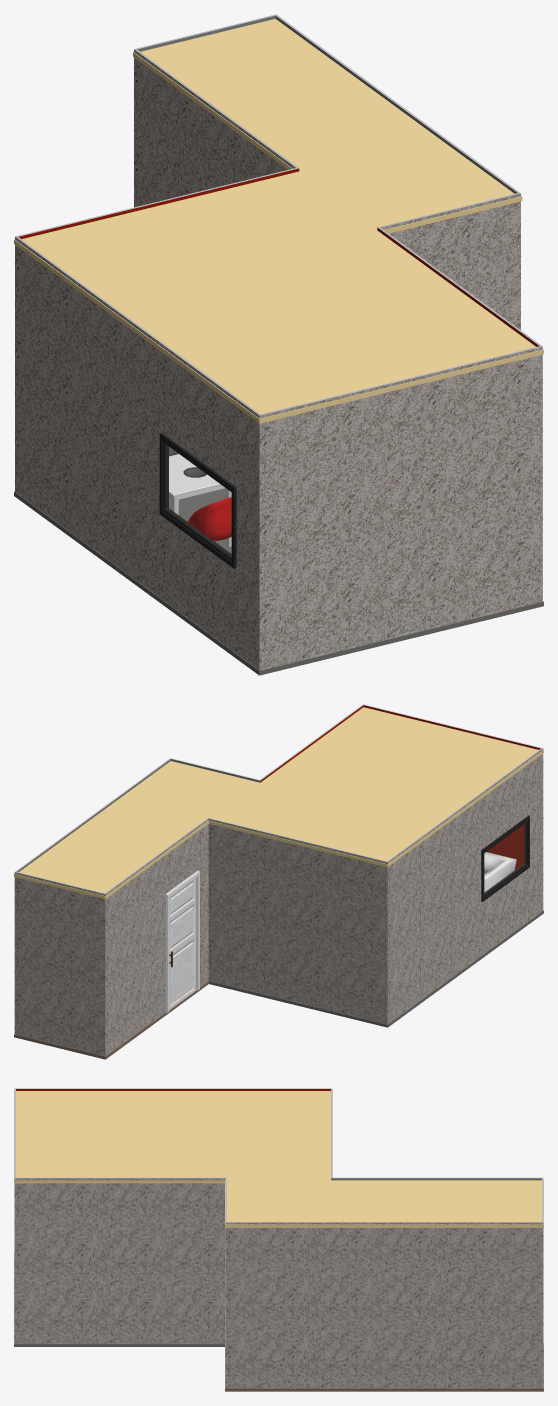
File: ProcTHOR-Train-155.glb
The picture shows the model from 3 angles, top to bottom: view 1: azimuth 30°, elevation 25°; view 2: azimuth 150°, elevation 25°; view 3: azimuth 270°, elevation 25°; orthographic projection. The views are drawn at different scales.
Visible parts, largest first — view 1: WallInside#wall|exterior|1.66|8.30|4.98|8.30, Ceiling#room|3|c, WallInside#wall|exterior|4.98|3.32|4.98|8.30, Ceiling#room|2|c, WallInside#wall|exterior|1.66|0.00|1.66|3.32, WallInside#wall|exterior|0.00|4.98|1.66|4.98, Floor#room|3|f, Window_Fixed_60x36, Dining_Table_221_1, RoboTHOR_office_chair_skruvsta, WallInside#wall|3|1.66|3.32|4.98|3.32, WallInside#wall|2|0.00|0.00|0.00|4.98 (+1 smaller); view 2: WallInside#wall|exterior|1.66|3.32|4.98|3.32, Ceiling#room|3|c, WallInside#wall|exterior|4.98|3.32|4.98|8.30, WallInside#wall|exterior|0.00|0.00|1.66|0.00, Ceiling#room|2|c, WallInside#wall|exterior|1.66|0.00|1.66|3.32, Doorway_8, WallInside#wall|3|1.66|8.30|4.98|8.30, Floor#room|3|f, Window_Fixed_60x36, Sofa_214_1, Floor#room|2|f (+1 smaller); view 3: WallInside#wall|exterior|0.00|0.00|0.00|4.98, WallInside#wall|exterior|1.66|4.98|1.66|8.30, Ceiling#room|3|c, Ceiling#room|2|c, Floor#room|2|f, WallInside#wall|3|4.98|3.32|4.98|8.30, Floor#room|3|f, WallInside#wall|2|1.66|0.00|1.66|3.32.
Boxes of the visible parts, <box> form: WallInside#wall|exterior|1.66|8.30|4.98|8.30: <box>259,346,542,670</box>; Ceiling#room|3|c: <box>14,171,543,423</box>; WallInside#wall|exterior|4.98|3.32|4.98|8.30: <box>15,236,259,670</box>; Ceiling#room|2|c: <box>133,19,522,233</box>; WallInside#wall|exterior|1.66|0.00|1.66|3.32: <box>134,49,296,207</box>; WallInside#wall|exterior|0.00|4.98|1.66|4.98: <box>379,193,520,329</box>; Floor#room|3|f: <box>14,488,543,675</box>; Window_Fixed_60x36: <box>159,433,236,568</box>; Dining_Table_221_1: <box>169,454,231,546</box>; RoboTHOR_office_chair_skruvsta: <box>188,497,231,542</box>; WallInside#wall|3|1.66|3.32|4.98|3.32: <box>16,168,299,238</box>; WallInside#wall|2|0.00|0.00|0.00|4.98: <box>275,14,519,193</box>; WallInside#wall|exterior|1.66|3.32|4.98|3.32: <box>208,818,387,1024</box>; Ceiling#room|3|c: <box>209,707,543,867</box>; WallInside#wall|exterior|4.98|3.32|4.98|8.30: <box>387,748,543,1023</box>; WallInside#wall|exterior|0.00|0.00|1.66|0.00: <box>14,872,105,1056</box>; Ceiling#room|2|c: <box>14,761,261,899</box>; WallInside#wall|exterior|1.66|0.00|1.66|3.32: <box>105,818,208,1056</box>; Doorway_8: <box>165,870,199,1012</box>; WallInside#wall|3|1.66|8.30|4.98|8.30: <box>363,705,542,869</box>; Floor#room|3|f: <box>209,910,543,1027</box>; Window_Fixed_60x36: <box>481,815,529,901</box>; Sofa_214_1: <box>484,852,516,892</box>; Floor#room|2|f: <box>14,981,208,1059</box>; WallInside#wall|exterior|0.00|0.00|0.00|4.98: <box>225,1222,543,1388</box>; WallInside#wall|exterior|1.66|4.98|1.66|8.30: <box>14,1178,225,1343</box>; Ceiling#room|3|c: <box>14,1090,332,1183</box>; Ceiling#room|2|c: <box>225,1179,543,1227</box>; Floor#room|2|f: <box>225,1343,543,1391</box>; WallInside#wall|3|4.98|3.32|4.98|8.30: <box>16,1088,331,1090</box>; Floor#room|3|f: <box>14,1254,224,1346</box>; WallInside#wall|2|1.66|0.00|1.66|3.32: <box>331,1178,542,1180</box>.
Bounding box in the file's own units: 5.04 × 2.93 × 8.34.
126 materials, 49 textured.
